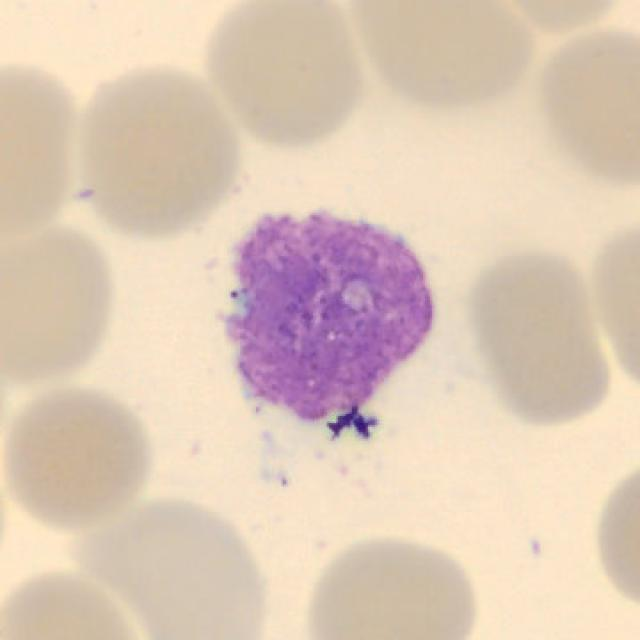Restos celulares: (219, 212, 436, 439)
